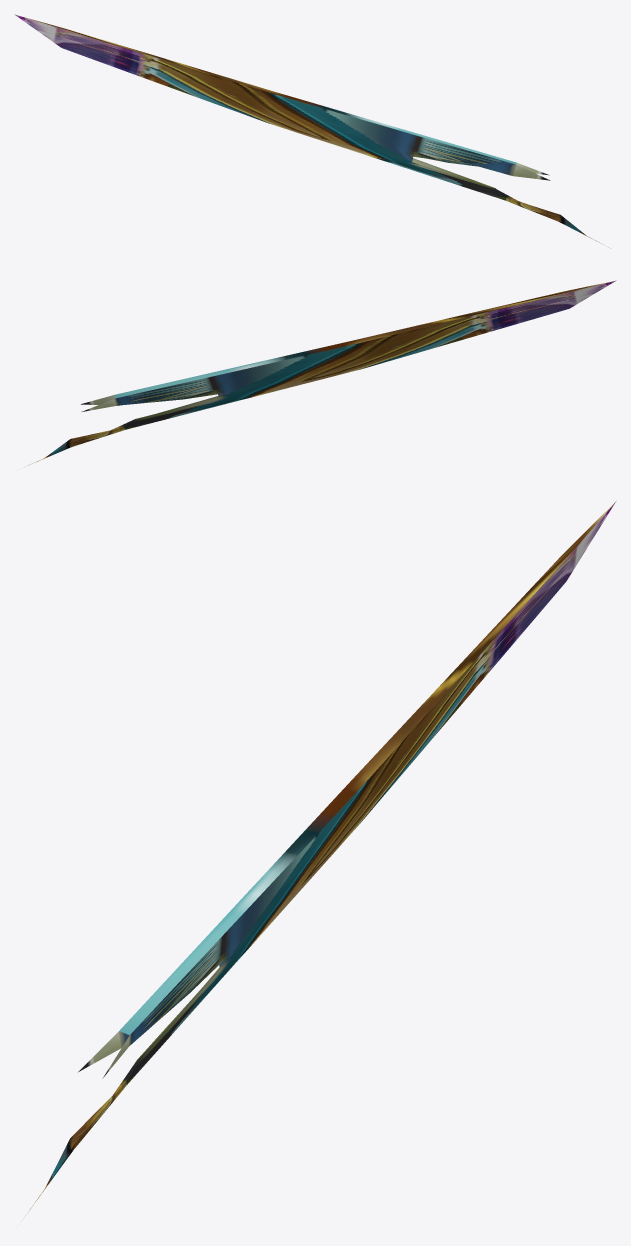
3 renders of one model, top to bottom at view 1: azimuth 30°, elevation 25°; view 2: azimuth 210°, elevation 25°; view 3: azimuth 270°, elevation 25°, orthographic. The views are drawn at different scales.
Visible parts, largest first — view 1: 0001; view 2: 0001; view 3: 0001.
Boxes of the visible parts, x1=… form: 0001: x1=14, y1=14, x2=610, y2=248; 0001: x1=21, y1=280, x2=616, y2=468; 0001: x1=21, y1=501, x2=616, y2=1221.
Bounding box in the file's own units: 33.86 × 23.88 × 16.18.
